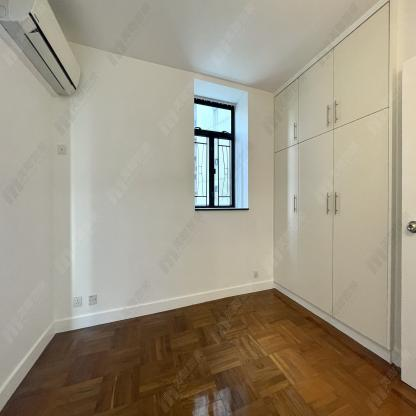Closet: (274, 0, 396, 366)
